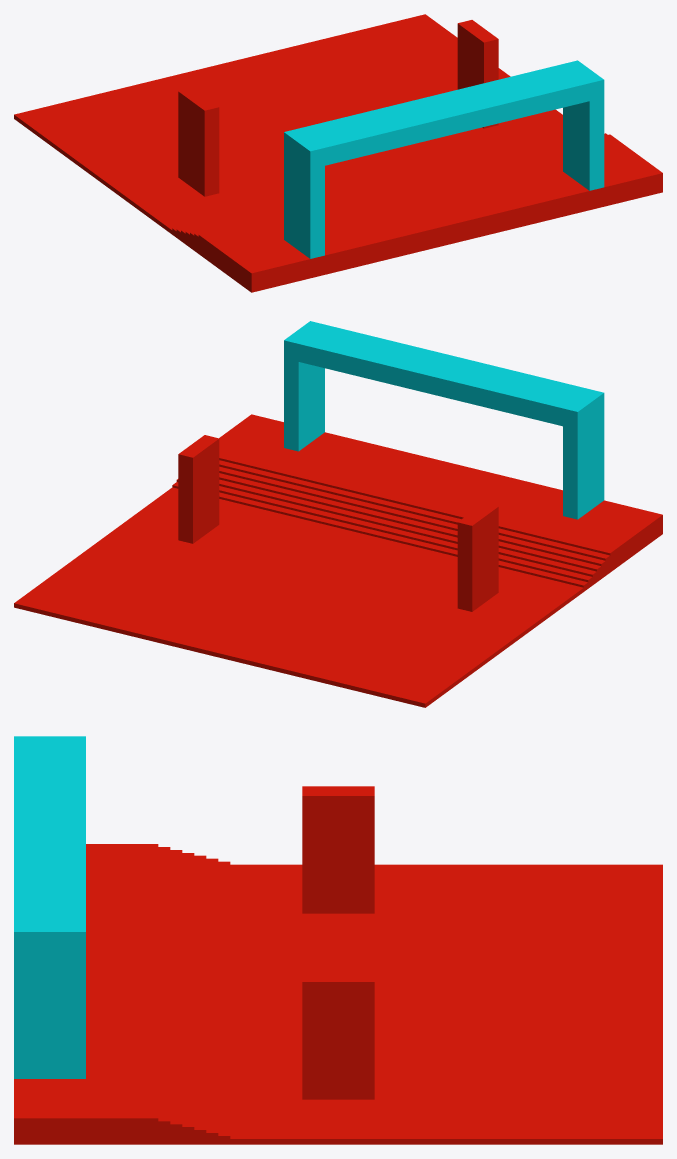
Rendered from nivel3.fbx.
The picture shows the model from 3 angles, top to bottom: view 1: azimuth 30°, elevation 25°; view 2: azimuth 150°, elevation 25°; view 3: azimuth 270°, elevation 25°; orthographic projection. The views are drawn at different scales.
Parts seen in each view (by area): view 1: Cube; view 2: Cube; view 3: Cube.
Part boxes in pixels (x1,y1,x2,y2): Cube: [14, 14, 662, 292]; Cube: [14, 321, 662, 707]; Cube: [14, 736, 662, 1144].
Size of the model in its own units: 2000 by 590 by 2000.
